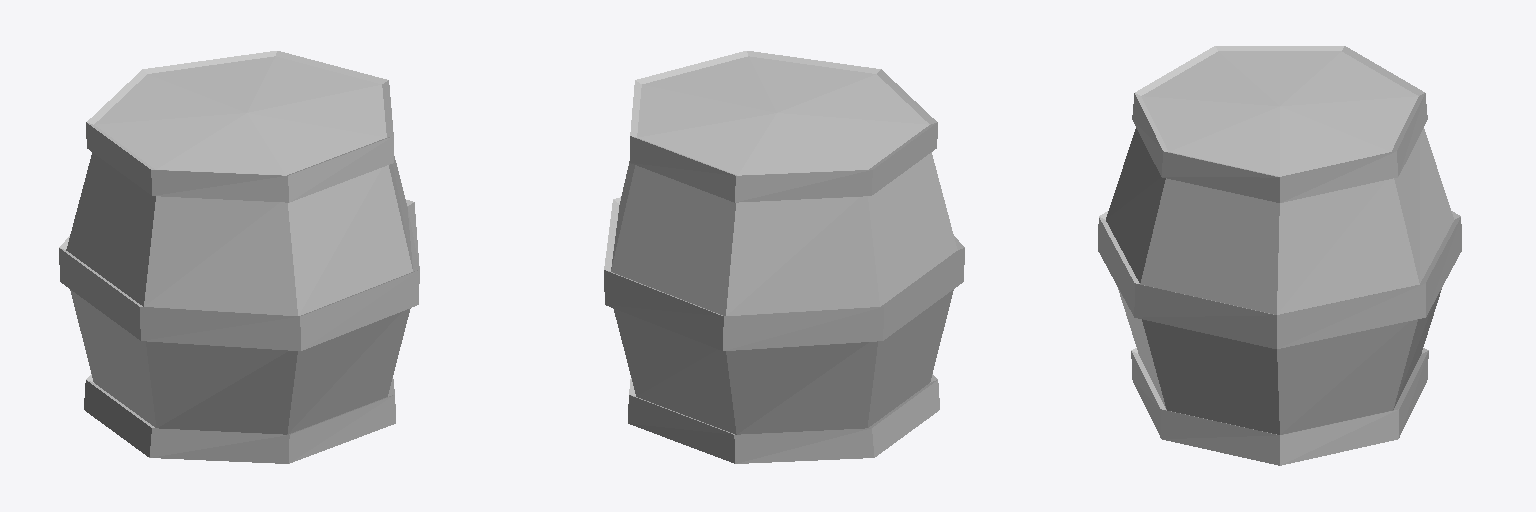
Rendered from barrel.obj.
3 views of the same model, side by side, from view 1: azimuth 30°, elevation 25°; view 2: azimuth 150°, elevation 25°; view 3: azimuth 270°, elevation 25° (orthographic).
Parts seen in each view (by area): view 1: pCylinder2; view 2: pCylinder2; view 3: pCylinder2.
Part boxes in pixels (x1,y1,x2,y2): pCylinder2: (59,51,419,463); pCylinder2: (604,51,964,463); pCylinder2: (1098,46,1461,465).
Bounding box in the file's own units: 2.11 × 1.86 × 2.12.